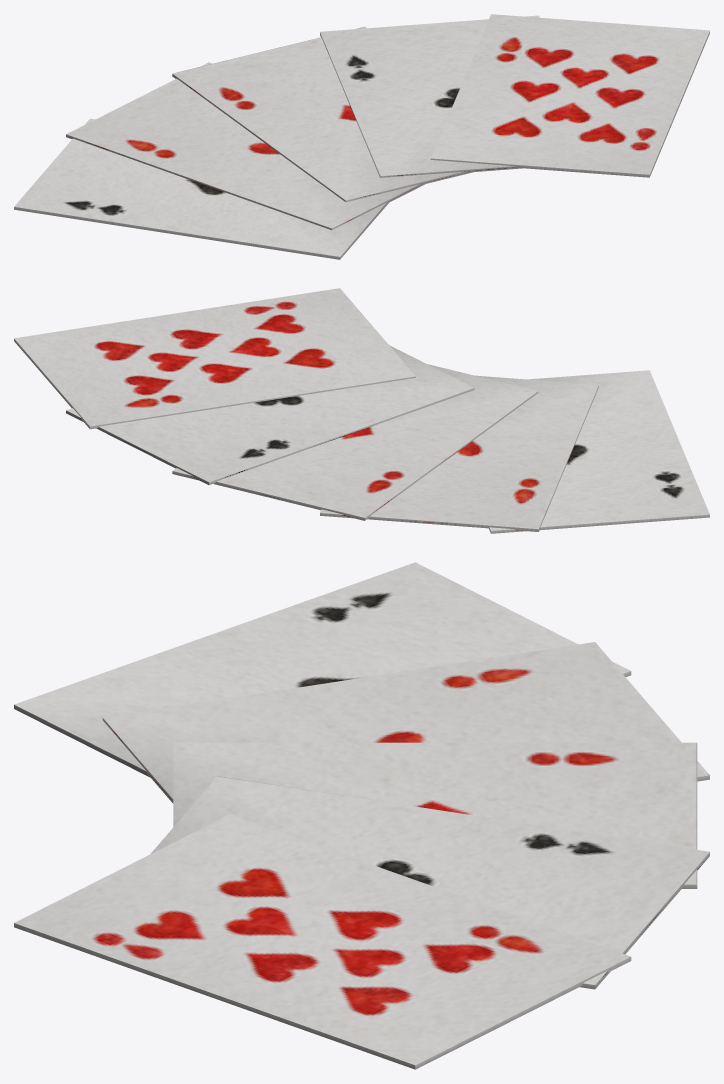
File: mm9_deco_cards.glb
3 renders of one model, top to bottom at view 1: azimuth 30°, elevation 25°; view 2: azimuth 150°, elevation 25°; view 3: azimuth 270°, elevation 25°, orthographic. The views are drawn at different scales.
Visible parts, largest first — view 1: Cards; view 2: Cards; view 3: Cards.
Boxes of the visible parts, bbox=[...] form: Cards: bbox=[14, 14, 709, 259]; Cards: bbox=[14, 288, 709, 533]; Cards: bbox=[14, 562, 709, 1069].
Bounding box in the file's own units: 0.1931 × 0.00251 × 0.1107.
1 material, 1 textured.
